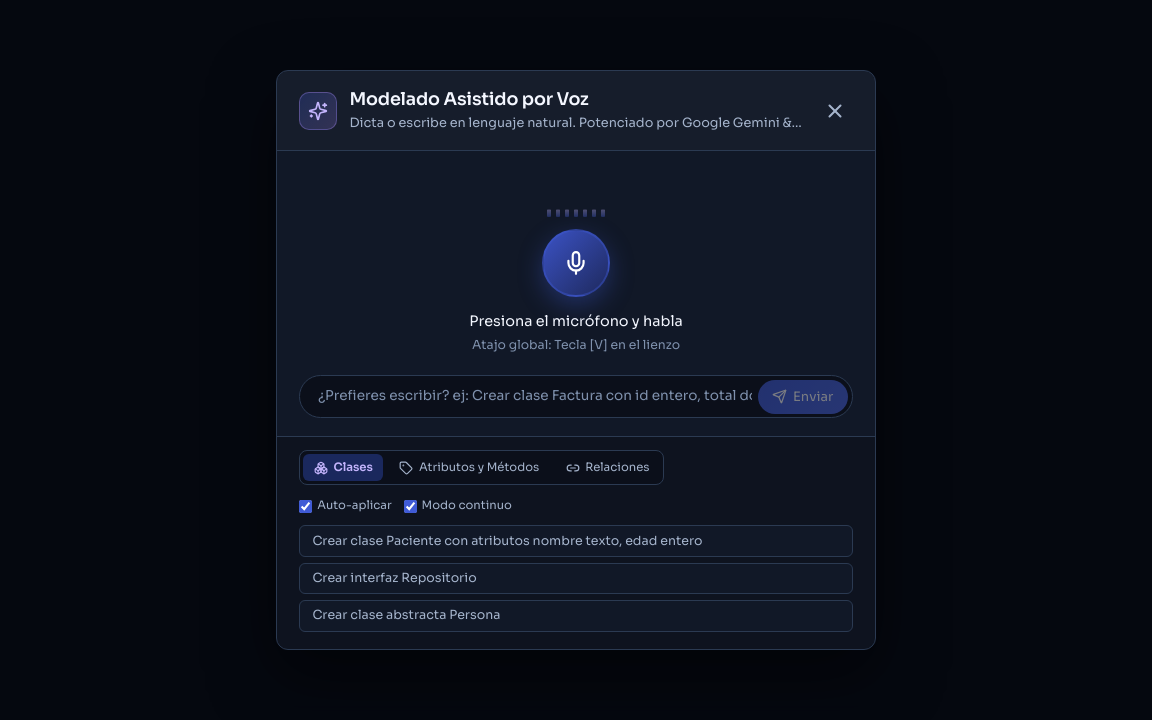
Test: VoiceCommandWidget Component Tests › permite cambiar de categoría de ejemplos y muestra los comandos respectivos
Click the tab "Relaciones" at (608, 468), box [555, 454, 660, 481]
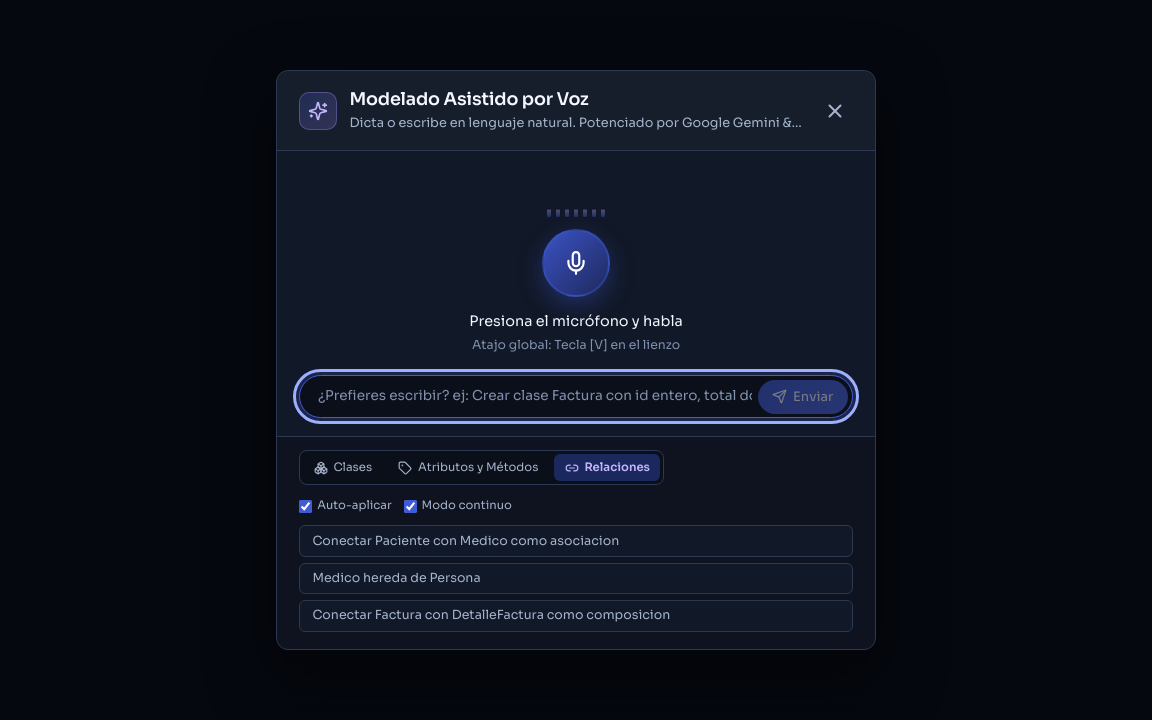
Expected: the button "Conectar Paciente con Medico como asociacion" is shown, [299, 525, 853, 557]
